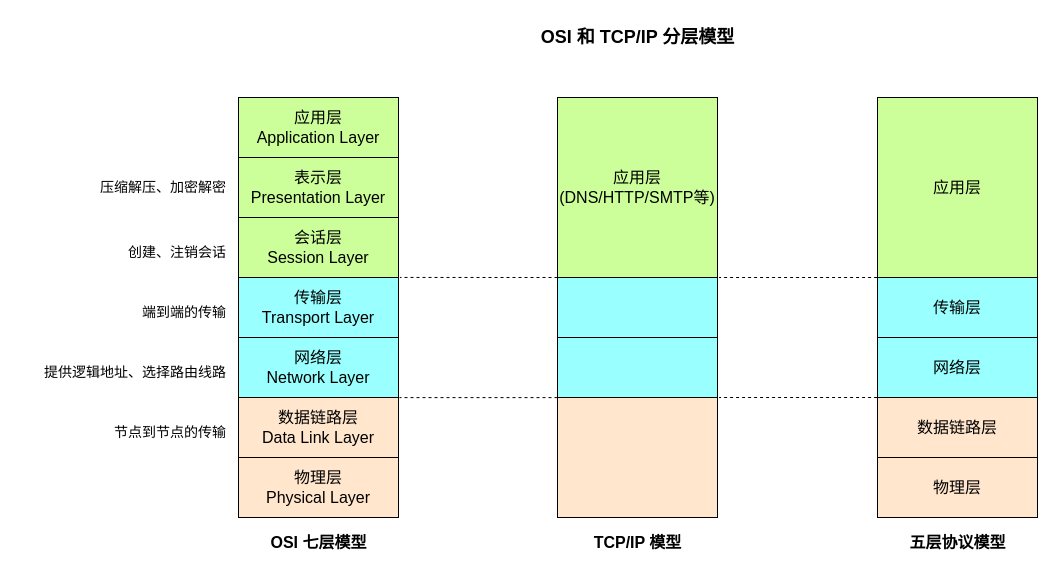
The diagram is 1055 pixels wide and 574 high, and some of its shapes have lost their labels. Each missing label, with the box of its shape:
传输层 (TCP / UDP): (556, 276, 718, 338)
网络层/网际层 IP: (556, 336, 718, 398)
网络接口层 网际接入层: (556, 396, 718, 518)
